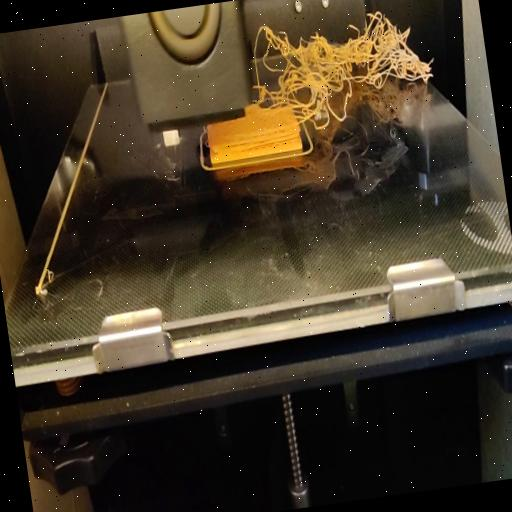spaghetti: (244, 0, 441, 144)
